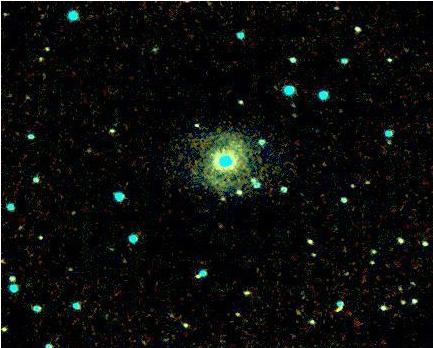star: (205, 183, 235, 213)
